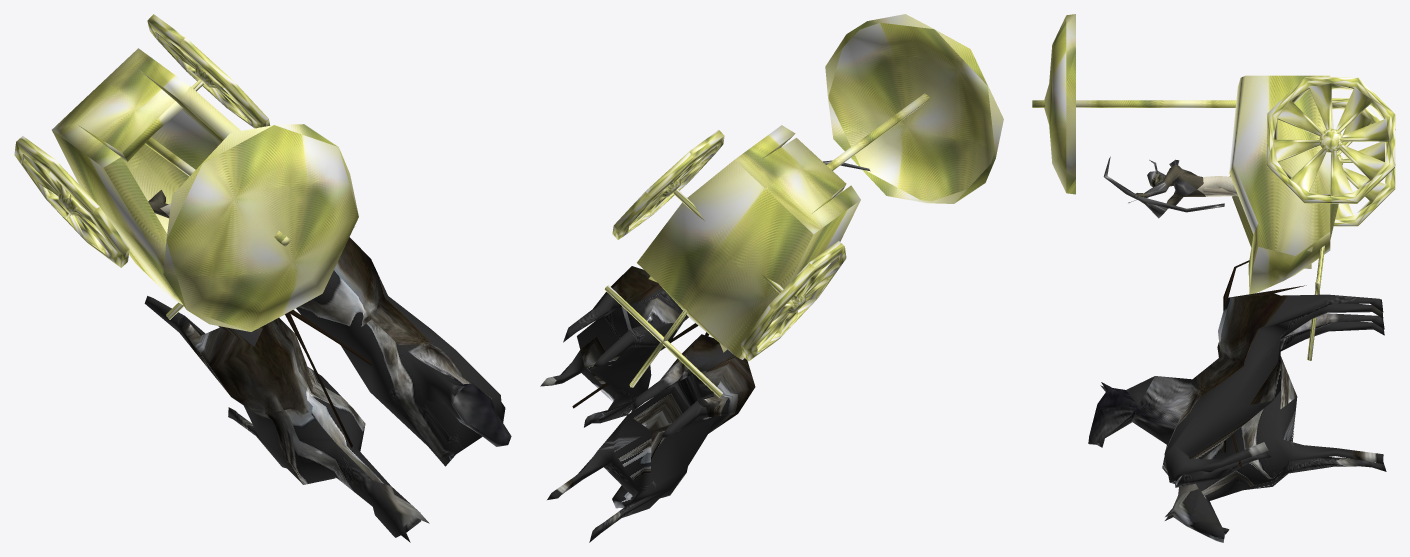
Rendered from chariot_000209.obj.
3 views of the same model, side by side, from view 1: azimuth 30°, elevation 25°; view 2: azimuth 150°, elevation 25°; view 3: azimuth 270°, elevation 25° (orthographic). The views are drawn at different scales.
Parts seen in each view (by area): view 1: umbrella_Sphere, chariot_Cube.001, Horse.000_objHorse_0.001, Horse.001_objHorse_0.002, wheelR_Cylinder, wheelL_Cylinder.003, Cylinder_Cylinder.001; view 2: chariot_Cube.001, umbrella_Sphere, Horse.000_objHorse_0.001, Horse.001_objHorse_0.002, wheelR_Cylinder, wheelL_Cylinder.003, rod_Cylinder.002; view 3: Horse.001_objHorse_0.002, chariot_Cube.001, Horse.000_objHorse_0.001, wheelL_Cylinder.003, umbrella_Sphere, A4_Circle, wheelR_Cylinder, rod_Cylinder.002.
Boxes of the visible parts, <box> form: umbrella_Sphere: <box>145,124,358,331</box>; chariot_Cube.001: <box>52,48,240,304</box>; Horse.000_objHorse_0.001: <box>144,296,429,542</box>; Horse.001_objHorse_0.002: <box>296,237,511,466</box>; wheelR_Cylinder: <box>14,136,129,267</box>; wheelL_Cylinder.003: <box>147,14,270,128</box>; Cylinder_Cylinder.001: <box>285,310,371,447</box>; chariot_Cube.001: <box>637,125,860,359</box>; umbrella_Sphere: <box>825,14,1003,203</box>; Horse.000_objHorse_0.001: <box>547,334,755,542</box>; Horse.001_objHorse_0.002: <box>540,266,688,427</box>; wheelR_Cylinder: <box>741,241,846,361</box>; wheelL_Cylinder.003: <box>612,130,724,239</box>; rod_Cylinder.002: <box>604,189,783,397</box>; Horse.001_objHorse_0.002: <box>1088,285,1383,487</box>; chariot_Cube.001: <box>1229,75,1338,294</box>; Horse.000_objHorse_0.001: <box>1165,313,1386,542</box>; wheelL_Cylinder.003: <box>1267,77,1395,203</box>; umbrella_Sphere: <box>1032,14,1236,194</box>; A4_Circle: <box>1103,156,1238,218</box>; wheelR_Cylinder: <box>1331,98,1395,226</box>; rod_Cylinder.002: <box>1307,245,1324,360</box>.
Bounding box in the file's own units: 6.67 × 8.25 × 6.33.
